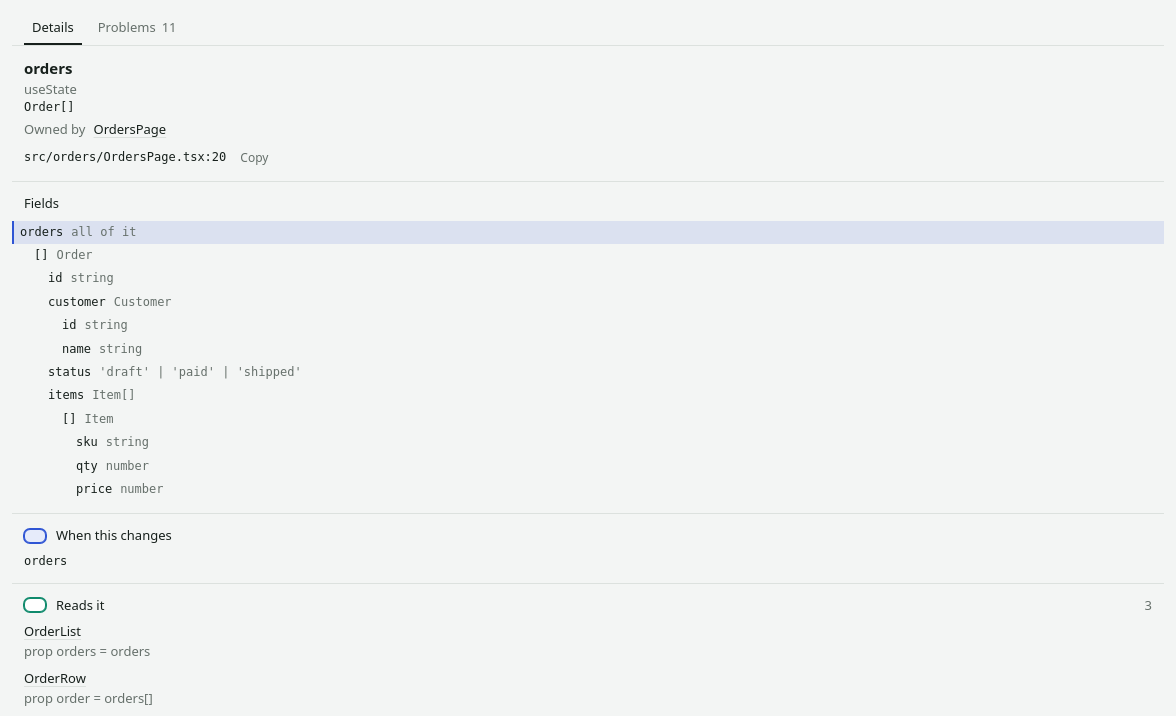
Inspector, Details tab › follows a node link: selects it and asks the canvas to reveal it
The width and height of the screenshot is (1176, 716).
Click the button "OrderList" at (53, 631), box [24,622,1152,641]
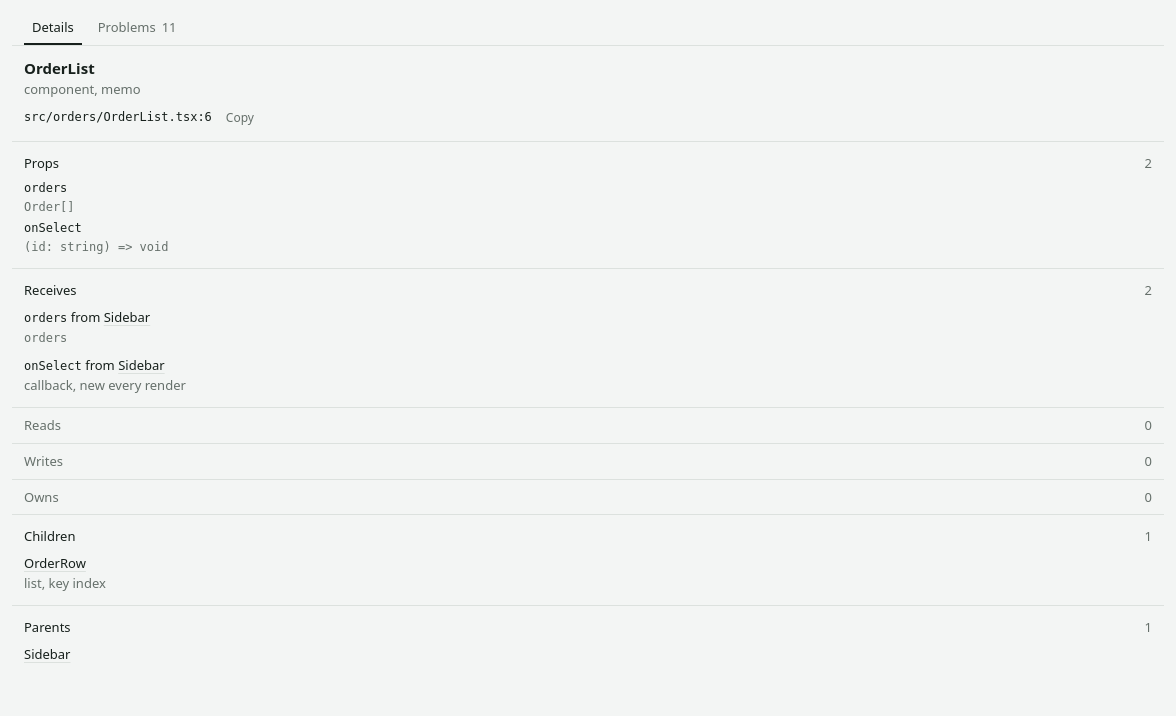
expect the heading "OrderList" is shown: met, box [24,58,95,78]
expect the text "component, memo" is shown: met, box [24,80,141,98]
